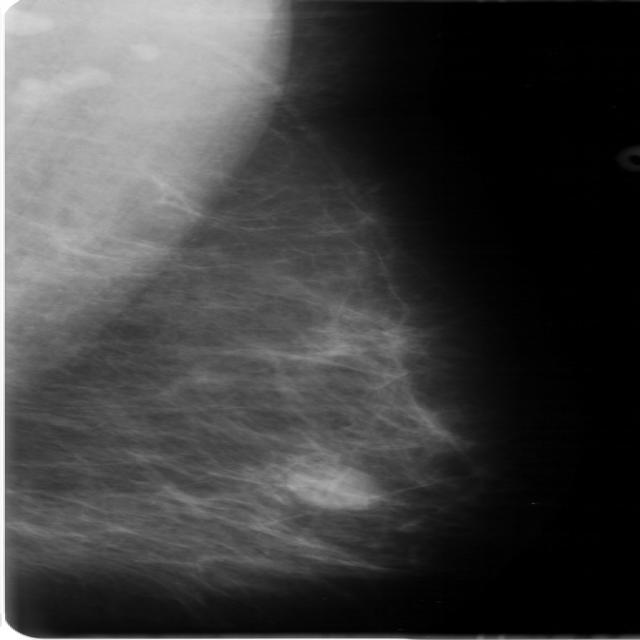tumour: (284, 460, 379, 510)
